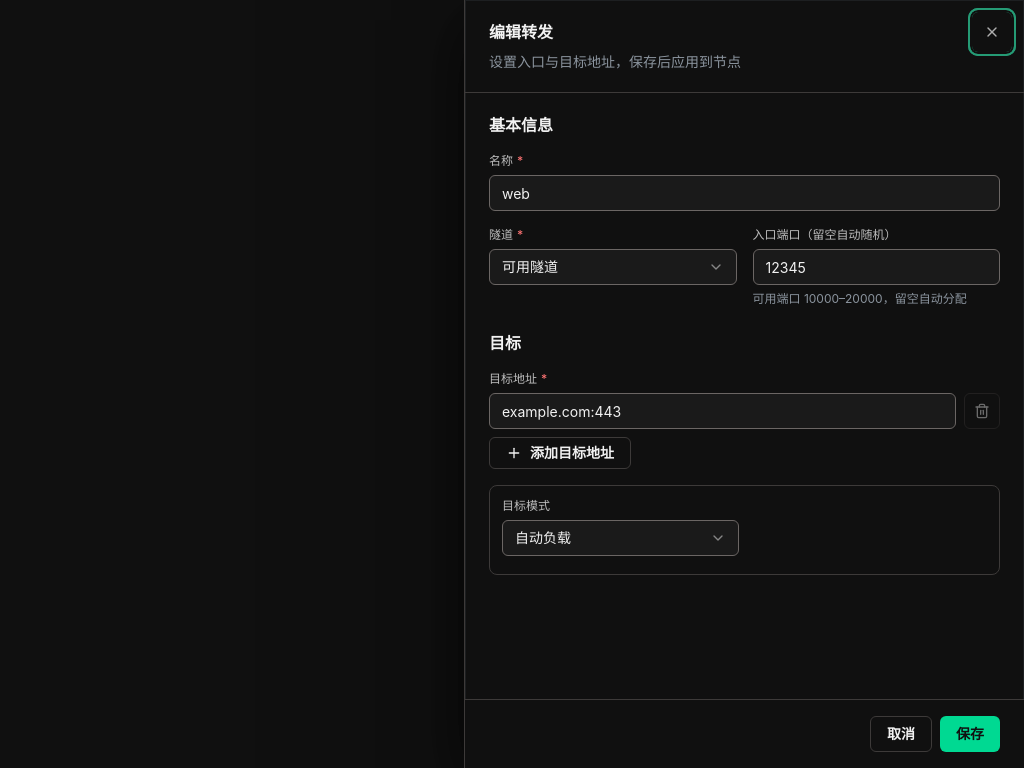
it: regular-user forward form › validates explicit port ranges inline without native browser blocking
Step 1. Replace the text in the number field with "70000" → (876, 267), box [752,249,1000,285]
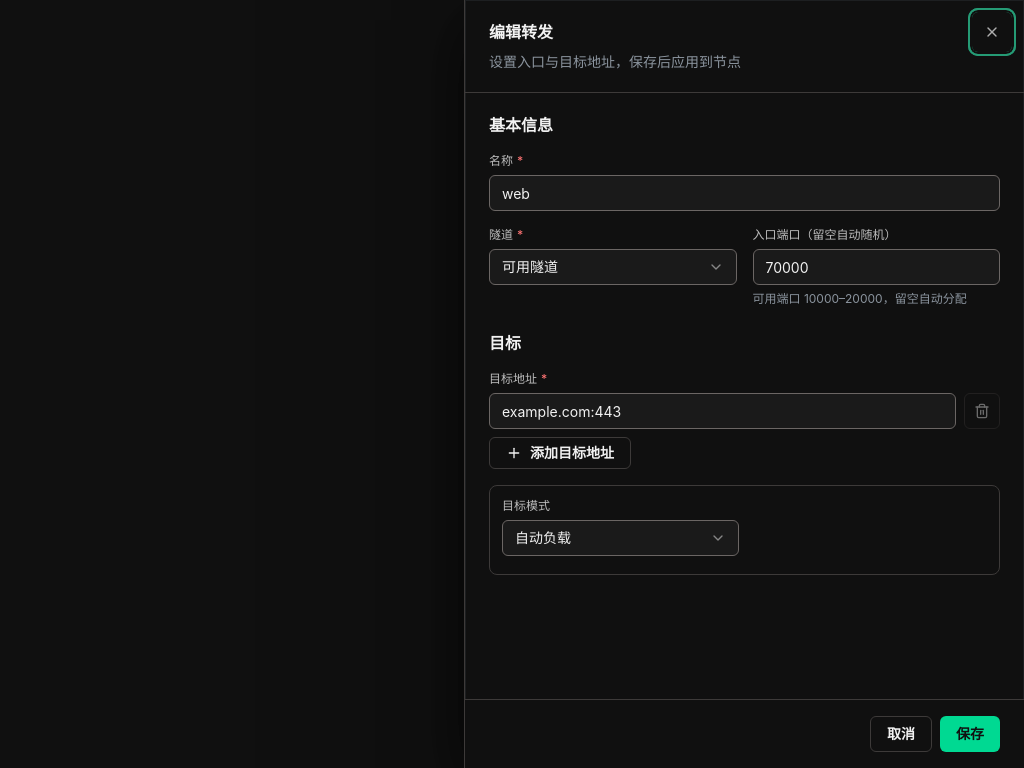
Step 2. Click the button "保存" → (970, 734), box [940,716,1000,752]
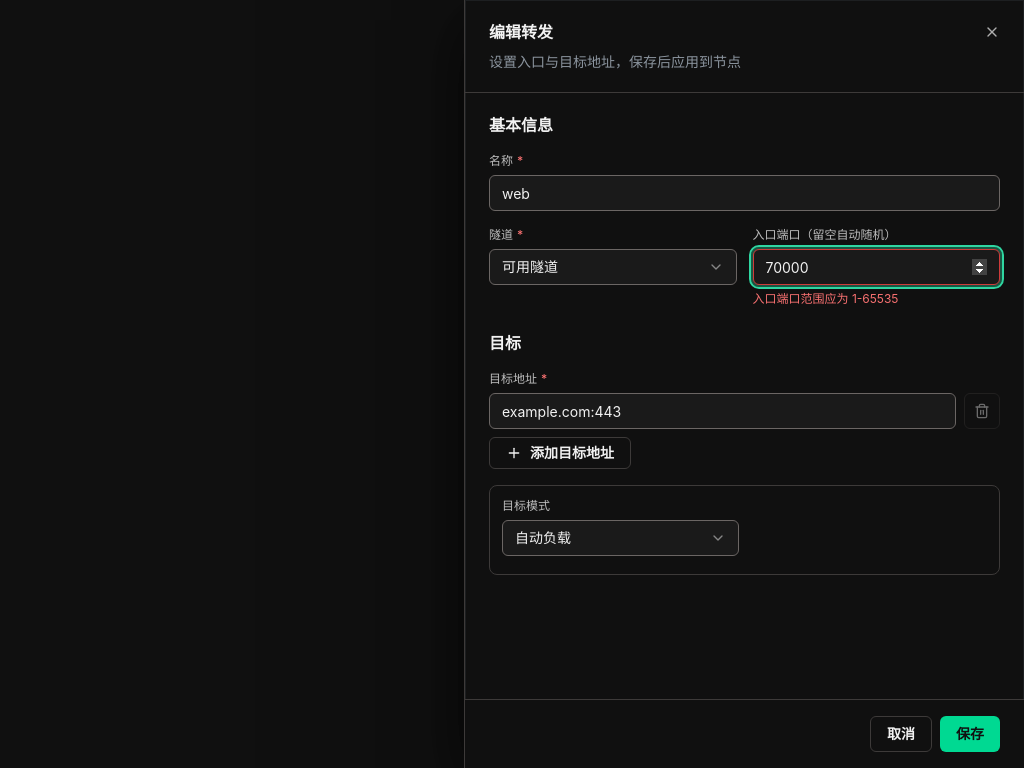
Expected: the text "入口端口范围应为 1-65535" is shown, [752,291,898,306]
